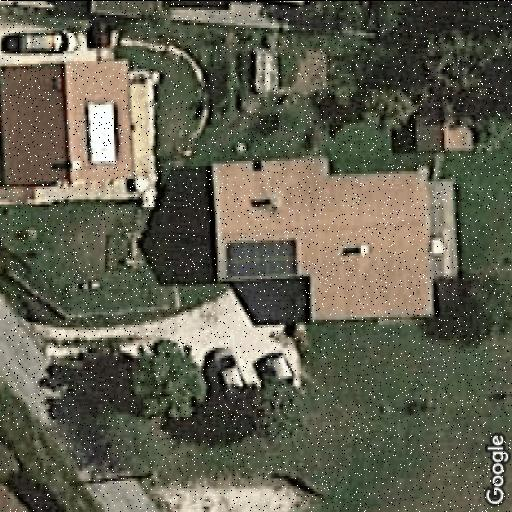solar-panel: (223, 234, 299, 280)
